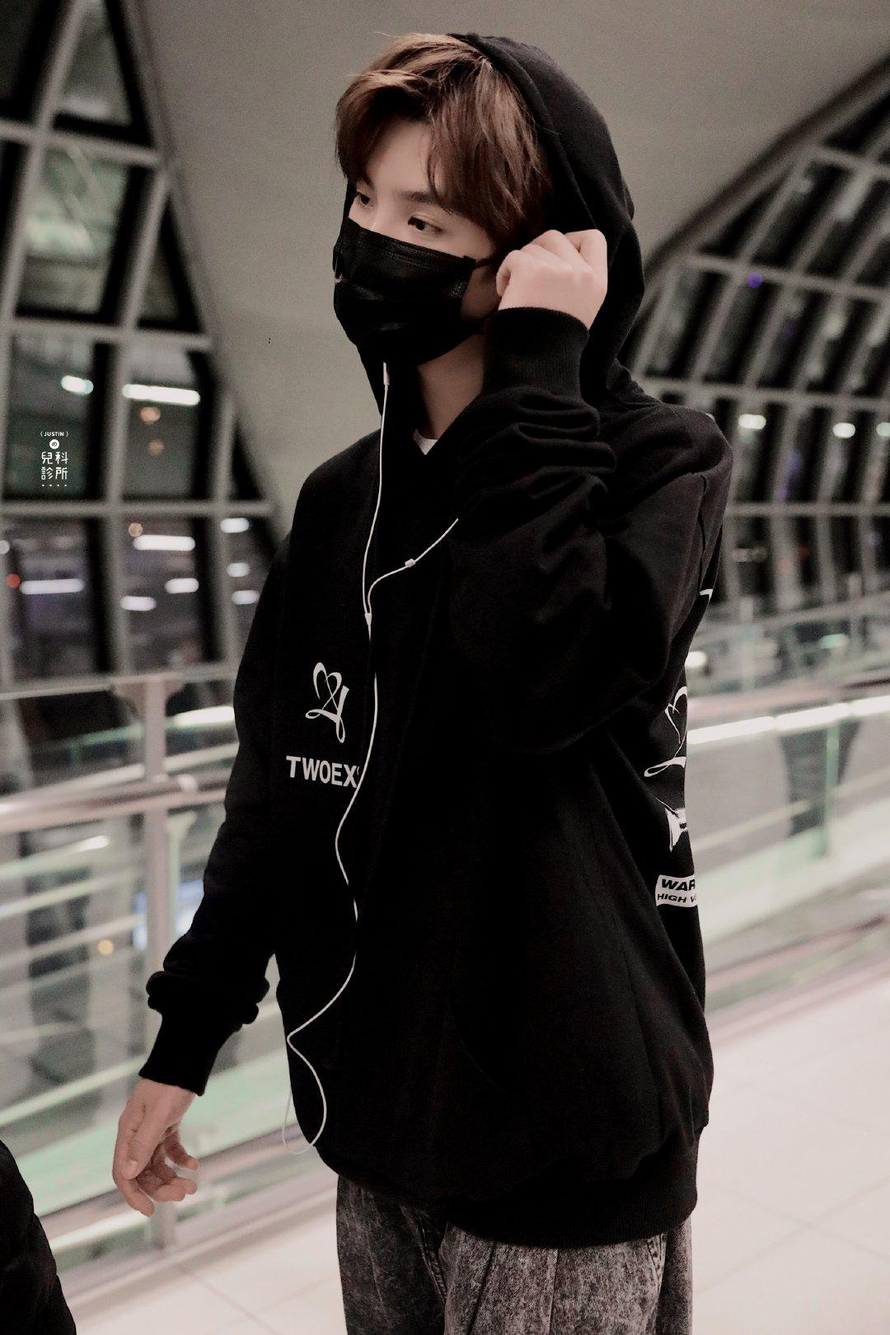OK: (331, 162, 490, 372)
